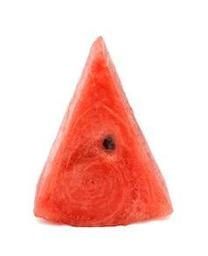watermelon: (34, 33, 176, 227)
